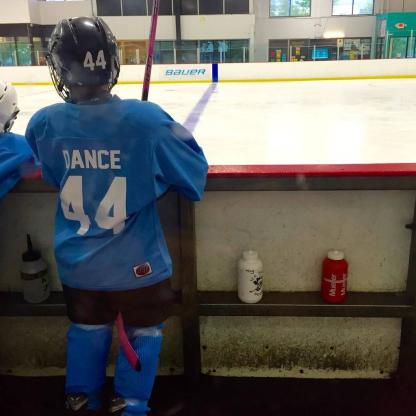Helmet: (44, 18, 124, 97), (0, 82, 24, 131)
